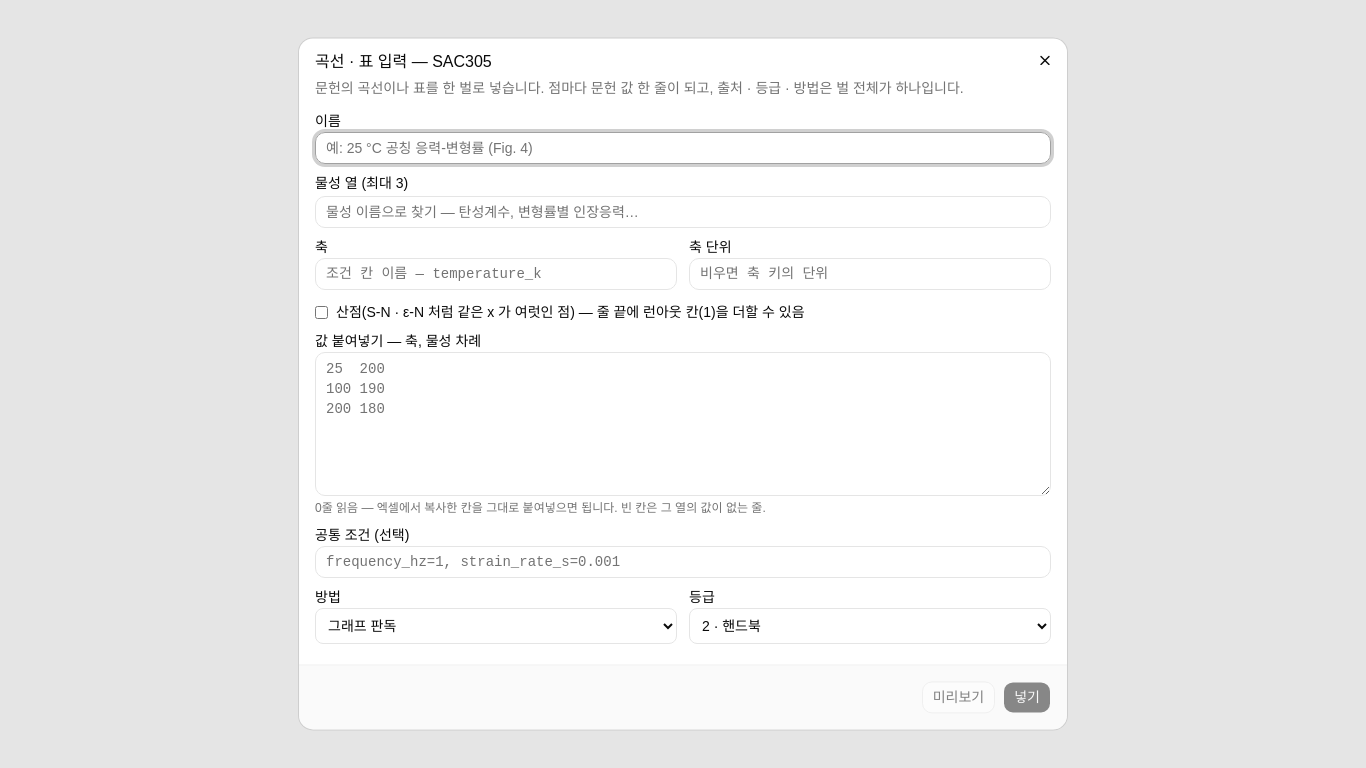
Test: 축 이름표 (ADR 0071) › ΔK 는 이름과 MPa·m^0.5 로, 그 밖의 축도 문헌 조건 칸 목록의 이름으로 선다
The width and height of the screenshot is (1366, 768).
In the field named "곡선 물성 찾기": (683, 212) [315,196,1051,228], type "균열"
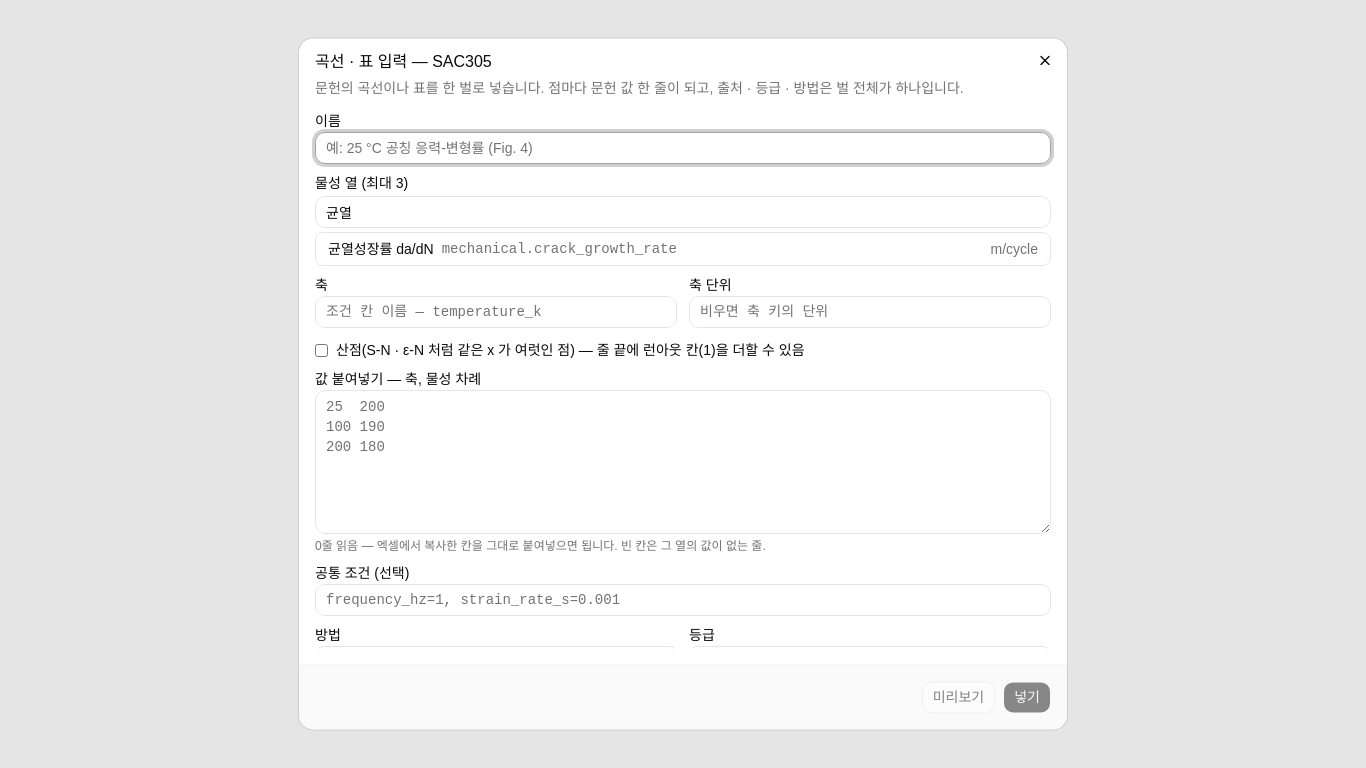
Click the button "균열성장률 da/dN mechanical.crack_growth_rate m/cycle": click(381, 249) [316,233,1050,265]
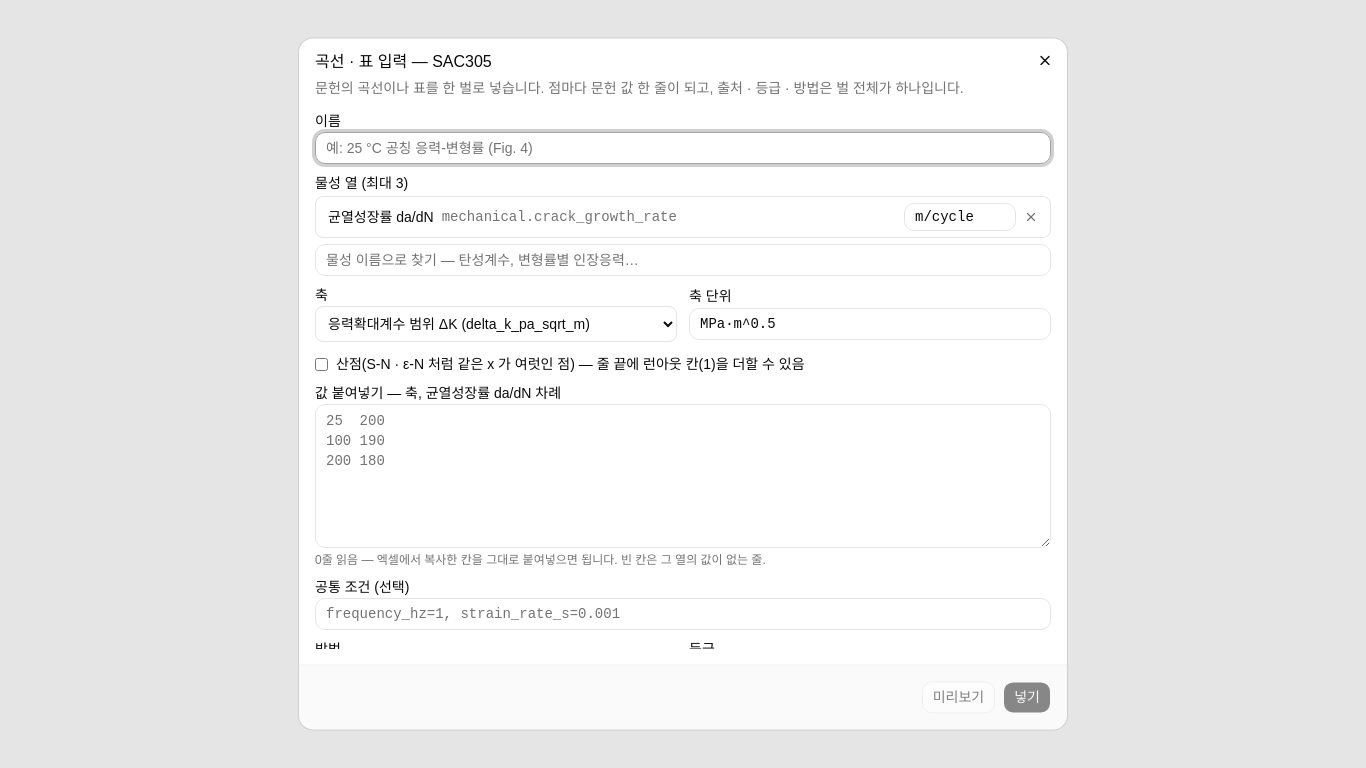
Now the field labelled "축 단위" holds "MPa·m^0.5", box [689,308,1051,340]
